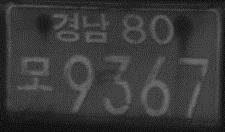0: (148, 13, 174, 45)
3: (100, 51, 132, 117)
6: (137, 55, 173, 117)
7: (177, 55, 210, 121)
8: (121, 11, 148, 46)
9: (62, 52, 95, 115)
경남_O: (52, 11, 111, 45)
모: (13, 54, 54, 91)
